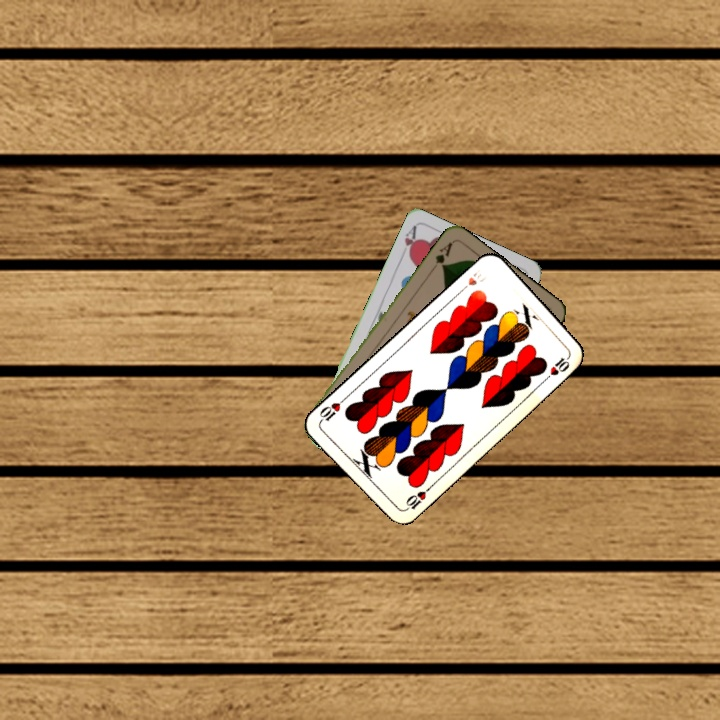GA: (428, 238, 455, 274)
H10: (400, 483, 433, 514), (456, 265, 489, 295)
HA: (397, 222, 420, 261)
